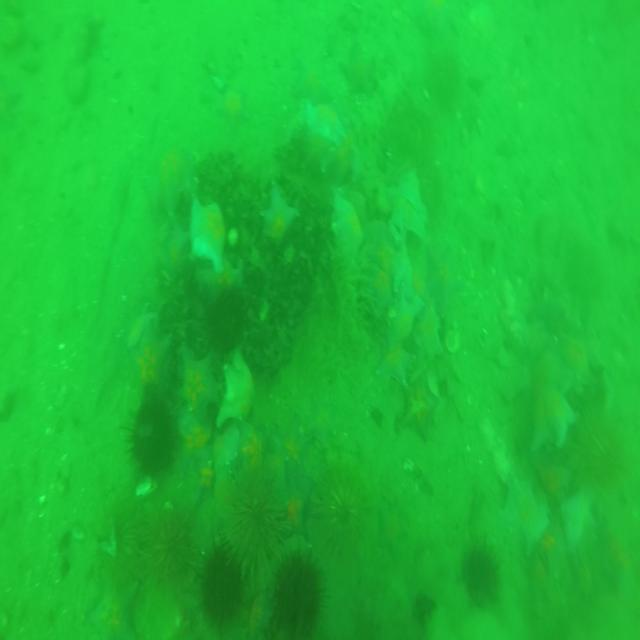echinus: (217, 464, 287, 574), (96, 505, 155, 594), (270, 554, 328, 639), (128, 386, 181, 477), (318, 466, 372, 546), (153, 509, 200, 585), (461, 532, 504, 600), (199, 542, 239, 614)
holothurian: (325, 242, 367, 339)
starfish: (494, 470, 546, 550), (144, 137, 196, 214), (166, 348, 219, 422), (183, 192, 231, 272), (326, 190, 372, 262), (386, 161, 429, 238), (376, 282, 426, 348), (529, 381, 575, 452), (287, 91, 340, 152), (375, 232, 421, 301), (410, 291, 446, 372), (130, 329, 172, 398), (187, 443, 228, 513), (218, 354, 258, 425), (560, 489, 598, 558), (393, 372, 432, 437), (259, 182, 295, 250), (231, 431, 269, 488), (539, 449, 569, 516), (532, 518, 566, 577)
